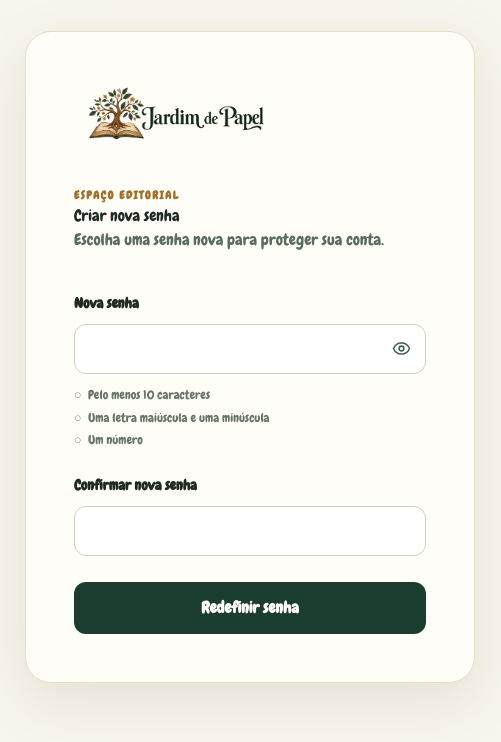
Test: recuperação de senha administrativa › não atualiza quando as senhas são diferentes
In the password field labelled "Nova senha": (250, 349) [74, 324, 426, 374], type "SenhaNova123"
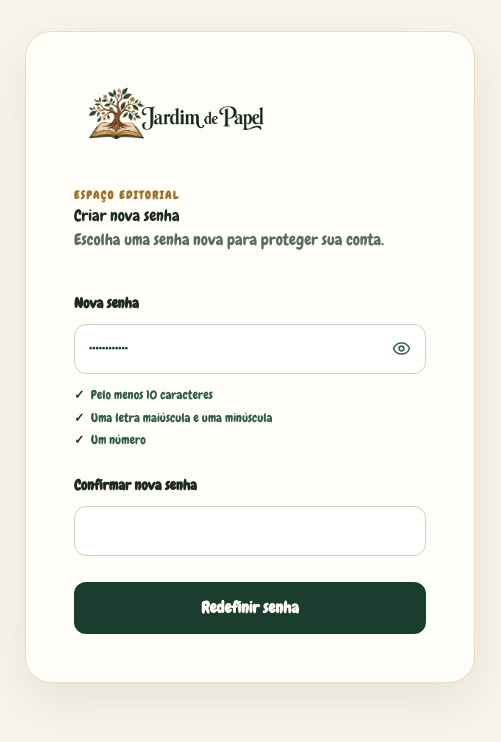
In the password field labelled "Confirmar nova senha": (250, 531) [74, 506, 426, 556], type "OutraSenha123"
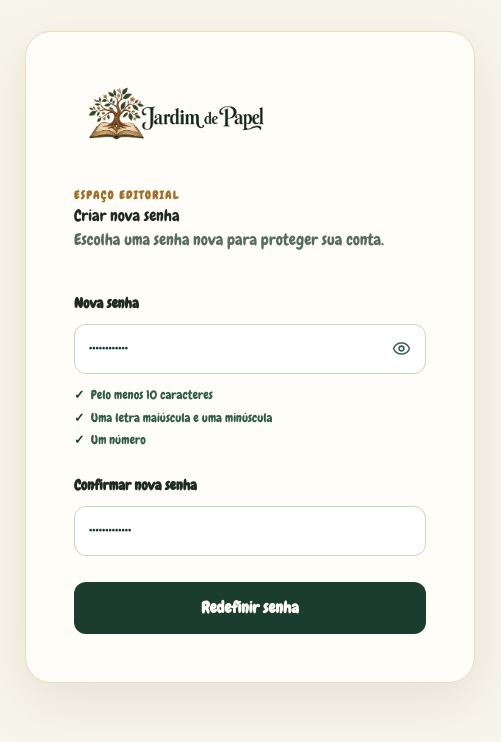
Click the button "Redefinir senha": (250, 608) [74, 582, 426, 634]
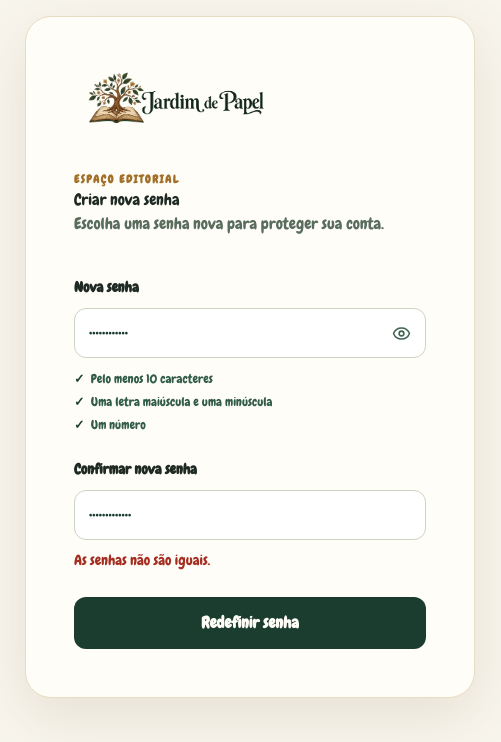
Check: the message shows "não são iguais", box [74, 551, 210, 569]
